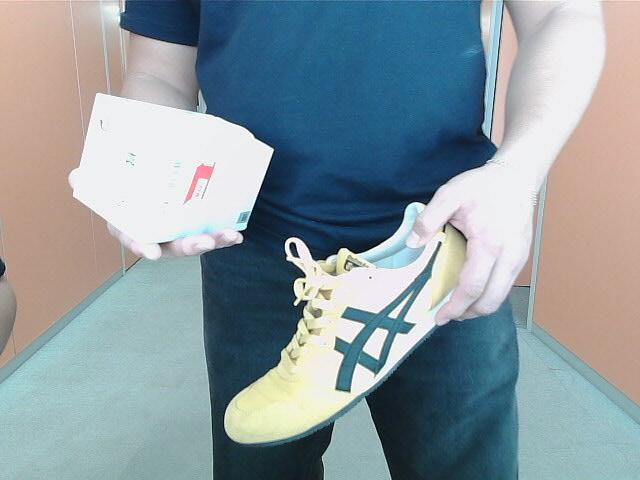Blind_box: (73, 92, 274, 246)
Shoes: (220, 199, 487, 450)
